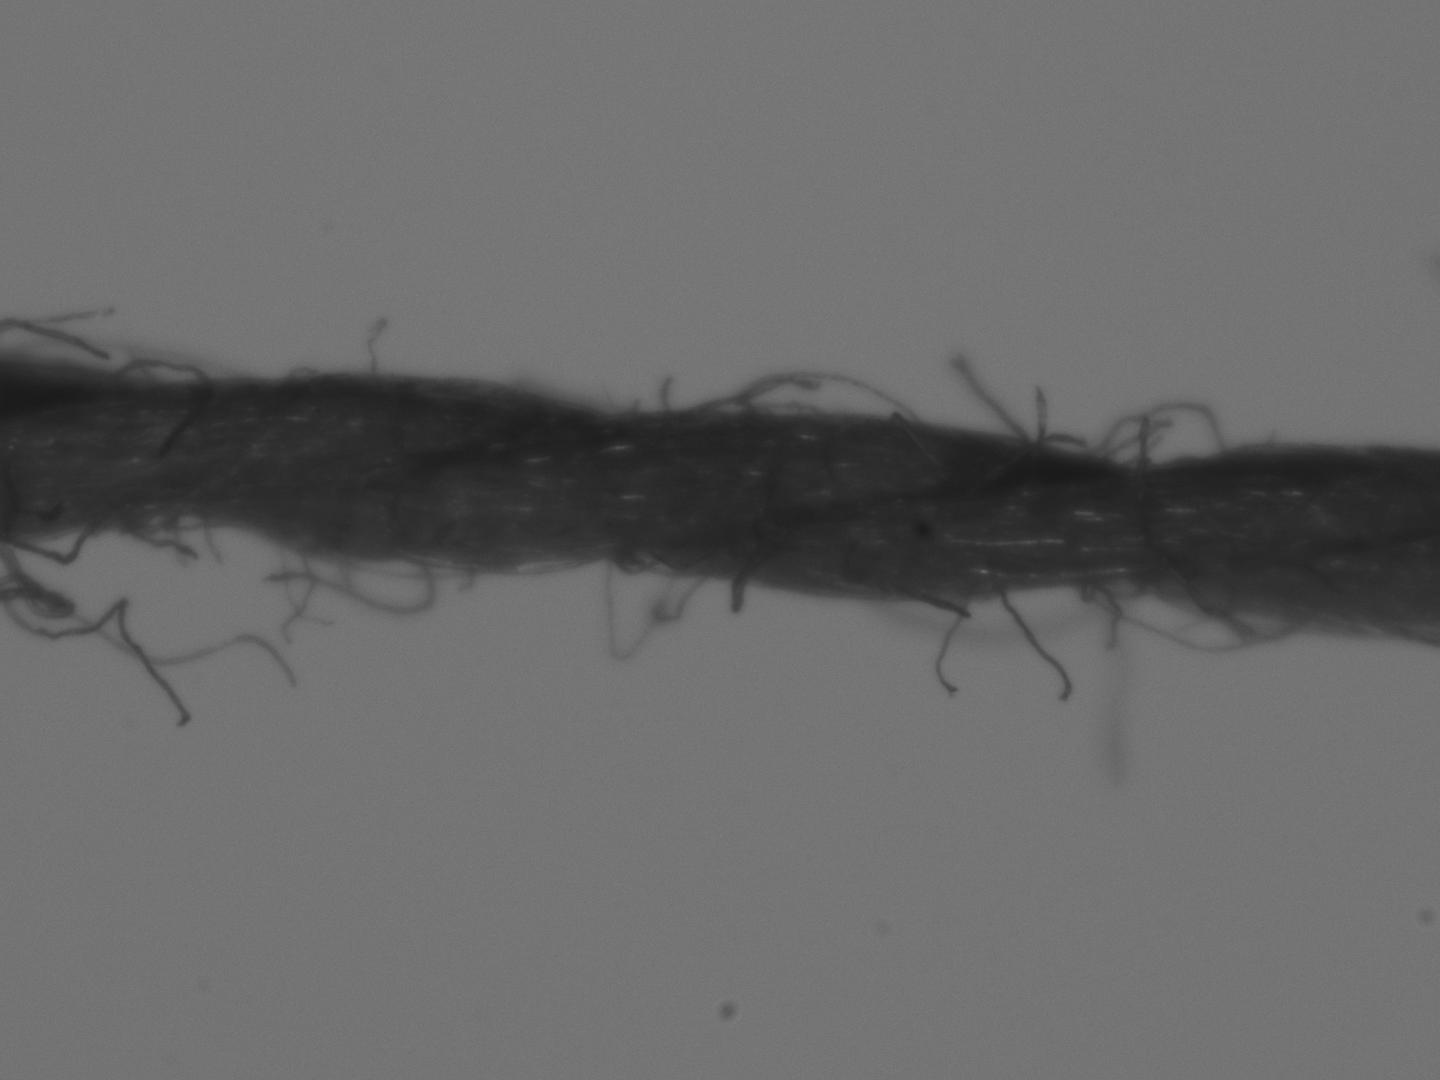loop_fiber: (1078, 584, 1327, 655), (659, 369, 922, 427), (600, 558, 706, 665), (279, 547, 439, 616), (1084, 397, 1228, 467), (0, 507, 150, 566)
protruding_fiber: (0, 533, 190, 724), (994, 591, 1074, 701), (945, 360, 1031, 446), (931, 593, 977, 702), (276, 537, 320, 646), (362, 311, 391, 382), (1030, 381, 1050, 442)
